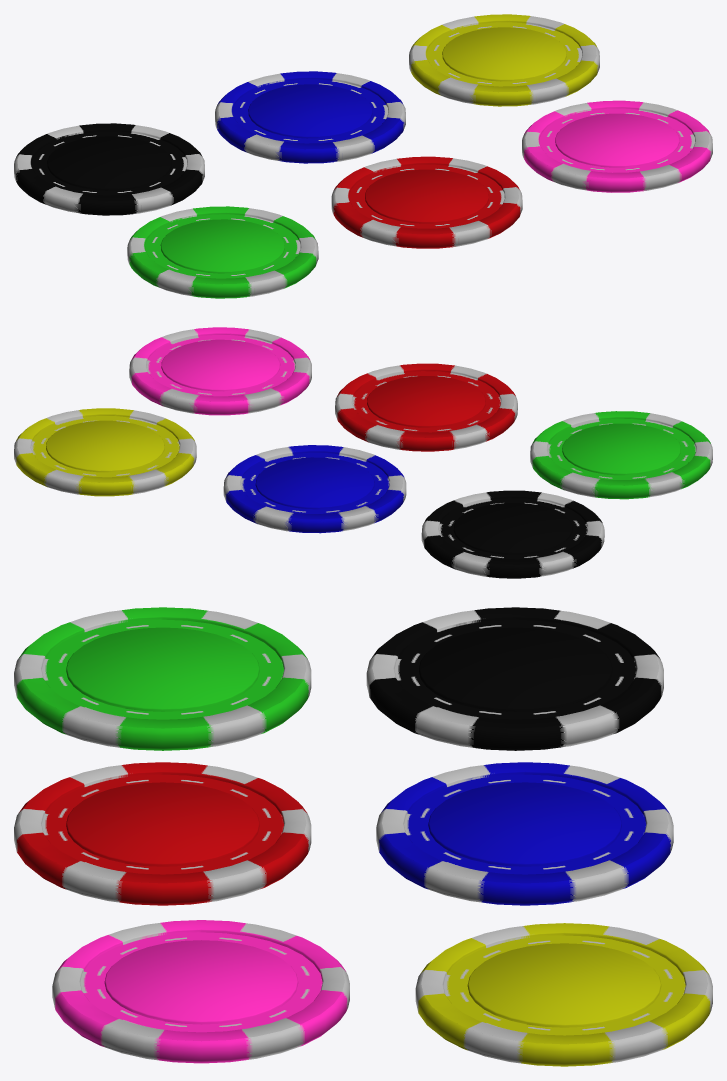
Rendered from pokerChips.glb.
3 views of the same model, one above another, from view 1: azimuth 30°, elevation 25°; view 2: azimuth 150°, elevation 25°; view 3: azimuth 270°, elevation 25° (orthographic). The views are drawn at different scales.
Parts seen in each view (by area): view 1: chip_green, chip_red, chip_gold, chip_pink, chip_blue, chip_black; view 2: chip_black, chip_red, chip_gold, chip_pink, chip_green, chip_blue; view 3: chip_red, chip_pink, chip_green, chip_blue, chip_black, chip_gold.
Boxes of the visible parts, x1=… form: chip_green: x1=127, y1=206, x2=318, y2=298; chip_red: x1=331, y1=156, x2=522, y2=248; chip_gold: x1=409, y1=14, x2=599, y2=106; chip_pink: x1=522, y1=100, x2=712, y2=192; chip_blue: x1=215, y1=71, x2=405, y2=163; chip_black: x1=14, y1=123, x2=204, y2=215; chip_black: x1=421, y1=490, x2=604, y2=578; chip_red: x1=335, y1=363, x2=517, y2=451; chip_gold: x1=14, y1=408, x2=196, y2=496; chip_pink: x1=129, y1=327, x2=311, y2=415; chip_green: x1=530, y1=411, x2=712, y2=499; chip_blue: x1=223, y1=445, x2=406, y2=533; chip_red: x1=14, y1=762, x2=311, y2=905; chip_pink: x1=52, y1=920, x2=349, y2=1063; chip_green: x1=14, y1=607, x2=311, y2=750; chip_blue: x1=376, y1=762, x2=673, y2=905; chip_black: x1=366, y1=607, x2=663, y2=750; chip_gold: x1=415, y1=923, x2=712, y2=1066.
Bounding box in the file's own units: 6.95 × 0.1963 × 4.69.
Materials: 6 (6 with a texture image).
